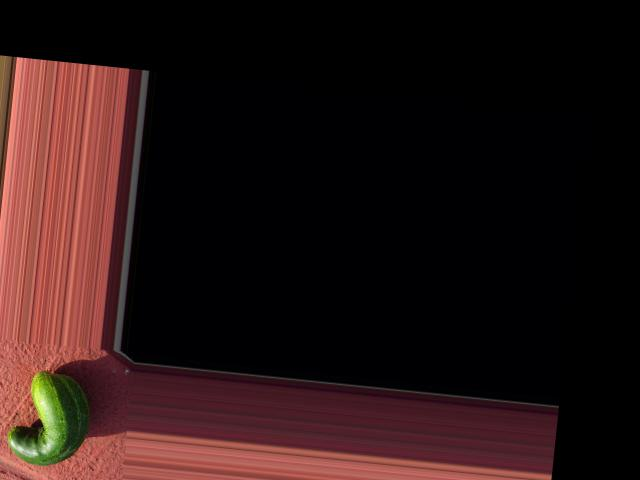cucumber: (3, 367, 93, 469)
